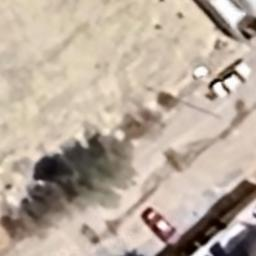sedan: (140, 206, 180, 248), (210, 60, 252, 99)
